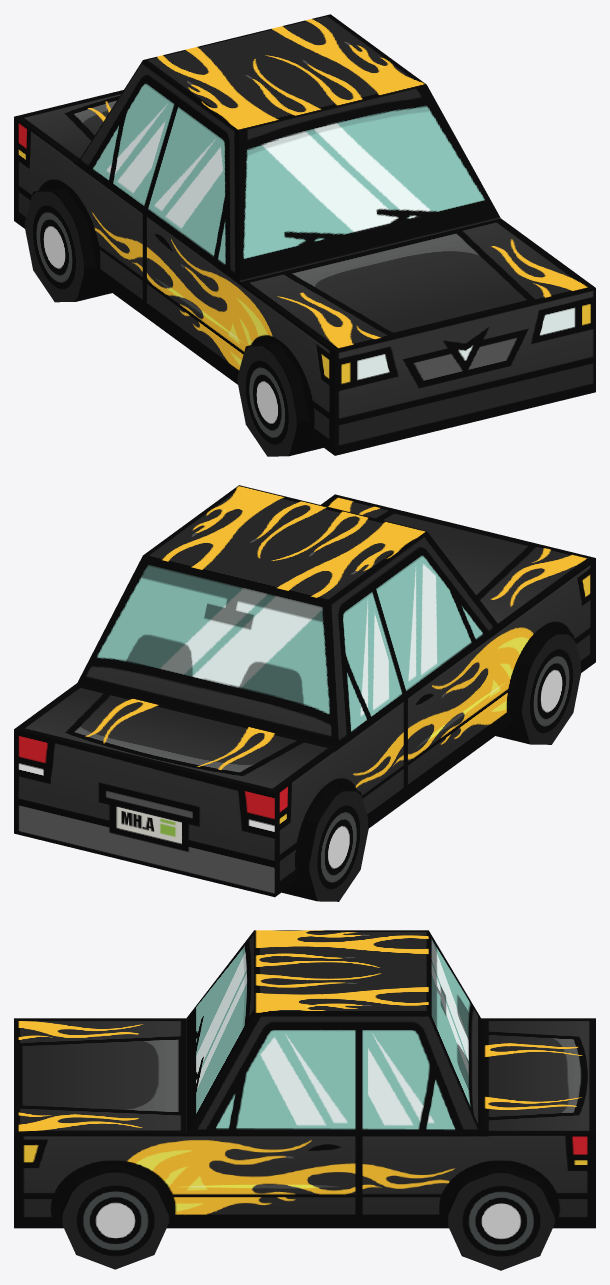
Rendered from car1_15.gltf.
3 views of the same model, one above another, from view 1: azimuth 30°, elevation 25°; view 2: azimuth 150°, elevation 25°; view 3: azimuth 270°, elevation 25° (orthographic). The views are drawn at different scales.
Parts seen in each view (by area): view 1: Cylinder.002; view 2: Cylinder.002; view 3: Cylinder.002.
Part boxes in pixels (<box>): Cylinder.002: <box>14,14,595,456</box>; Cylinder.002: <box>14,485,595,901</box>; Cylinder.002: <box>14,930,595,1270</box>.
Bounding box in the file's own units: 2.79 × 2.41 × 5.41.
Materials: 1 (1 with a texture image).
